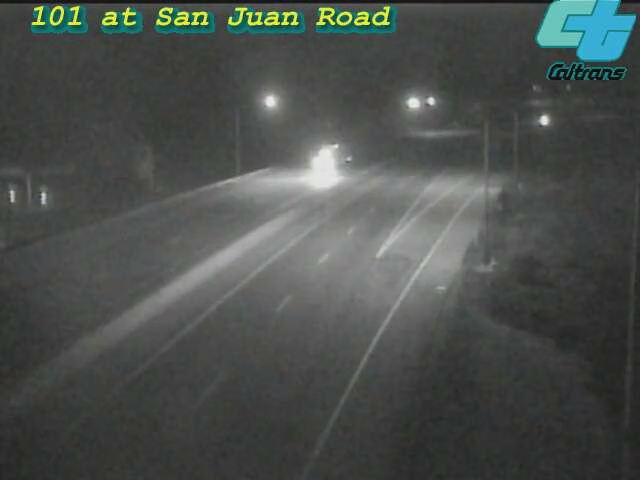vehicle: (305, 134, 355, 184), (518, 96, 568, 146)
